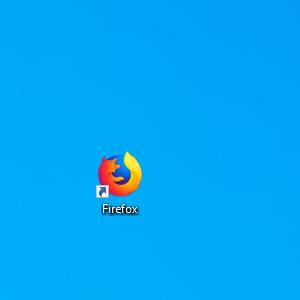firefox: (96, 149, 143, 198)
